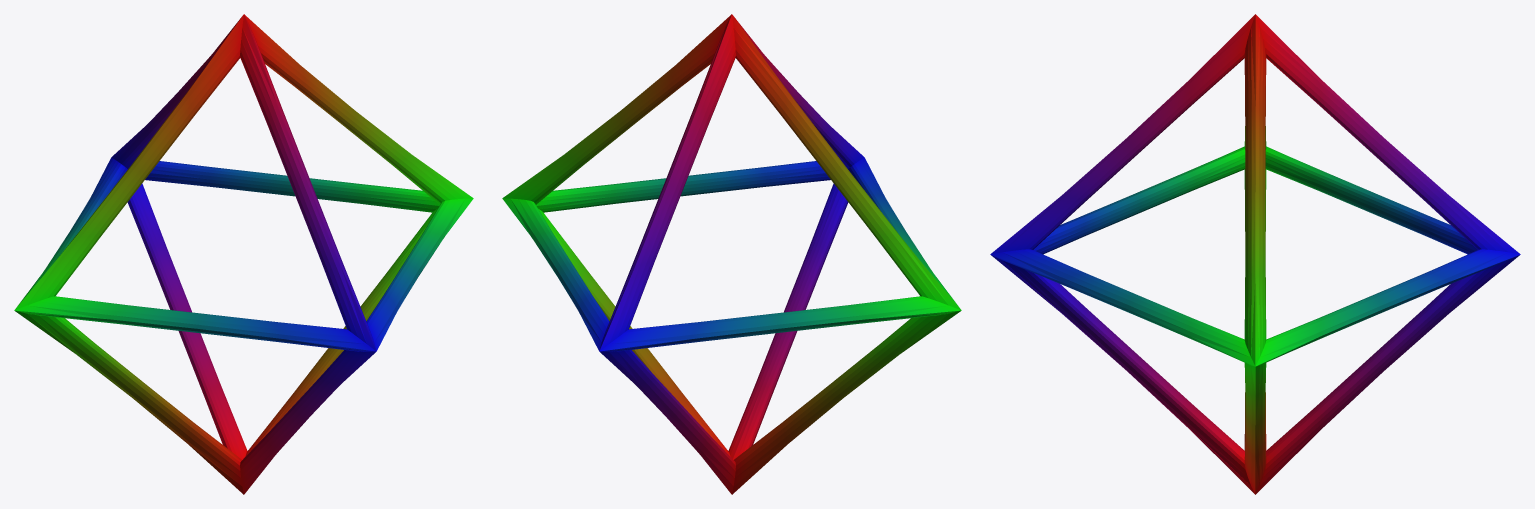
File: octa_wireframe.glb
3 views of the same model, side by side, from view 1: azimuth 30°, elevation 25°; view 2: azimuth 150°, elevation 25°; view 3: azimuth 270°, elevation 25° (orthographic).
Parts seen in each view (by area): view 1: Solid; view 2: Solid; view 3: Solid.
Part boxes in pixels (x1,y1,x2,y2): Solid: (14, 14, 473, 494); Solid: (502, 14, 961, 494); Solid: (990, 14, 1520, 494).
Size of the model in its own units: 1.41 by 1.41 by 1.41.
